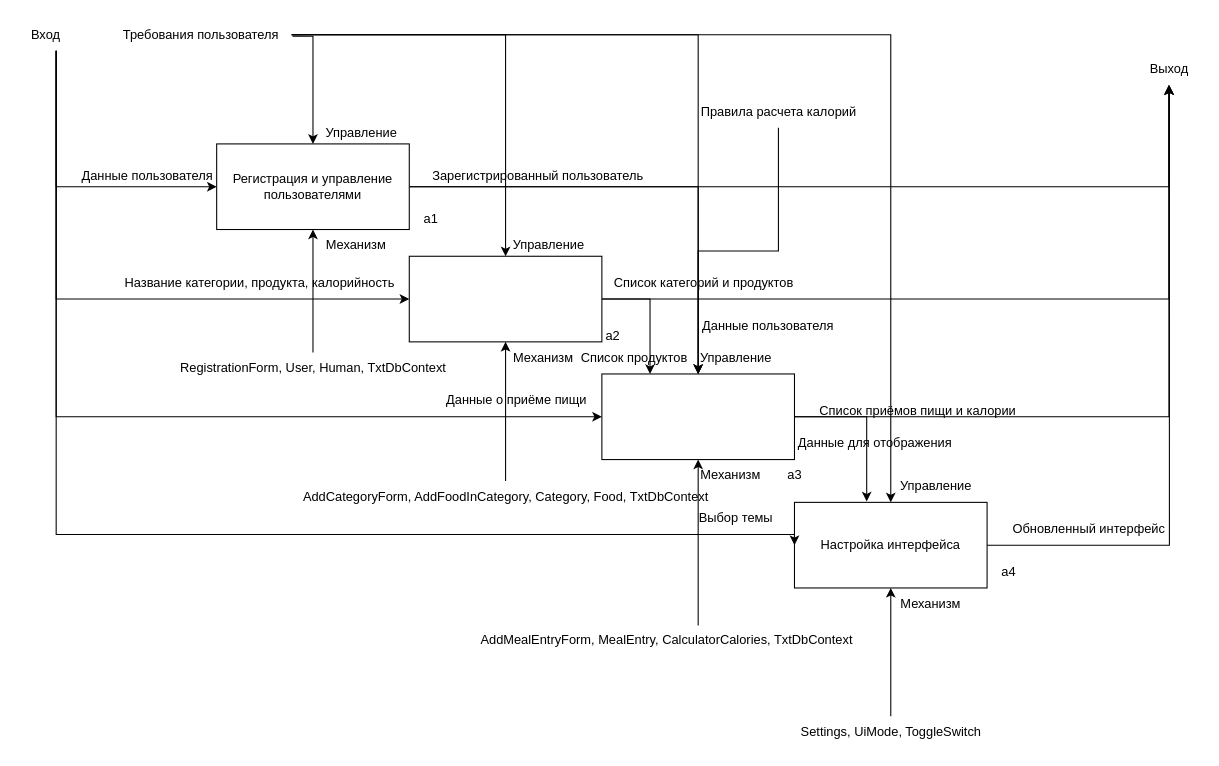
The diagram is 1219 pixels wide and 766 high, and some of its shapes have lost their labels. The shapes that lost their labels are listed below. From the top down, each one's centre as x and y in pixels, then its label:
At point 505,298: "Управление категориями и продуктами".
At point 697,416: "Учёт приёмов пищи".
